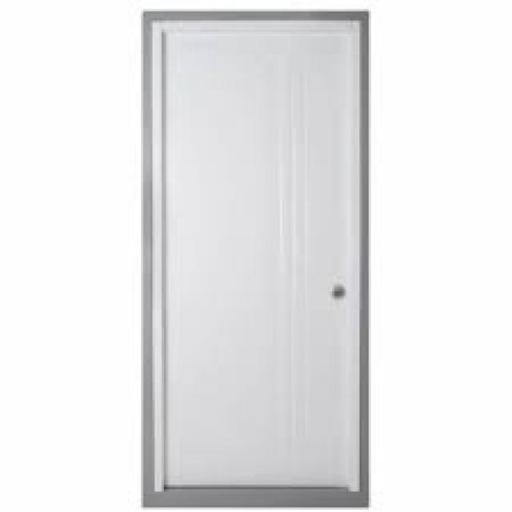door: (142, 10, 370, 506)
